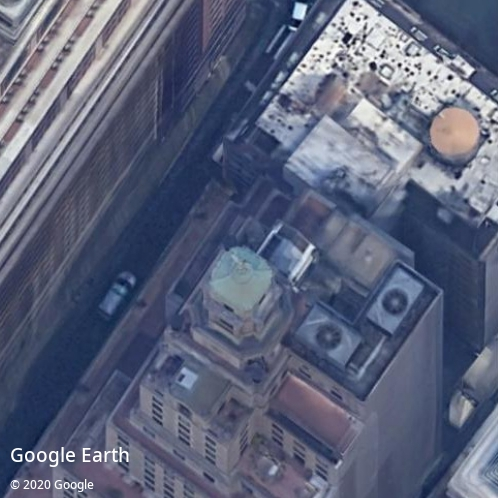Vent: (314, 322, 342, 350), (381, 289, 408, 316)
